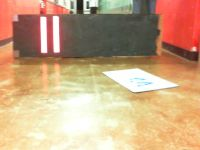switch: (52, 16, 60, 53), (40, 16, 47, 54)
